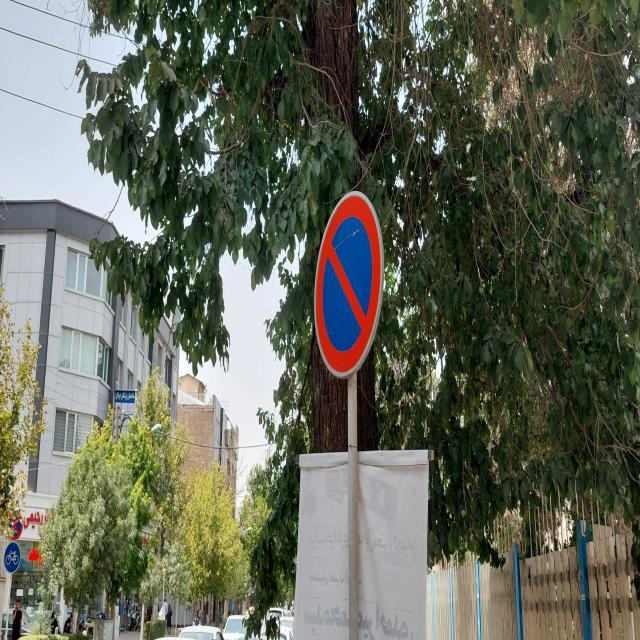forb_stopping: (315, 191, 385, 379)
